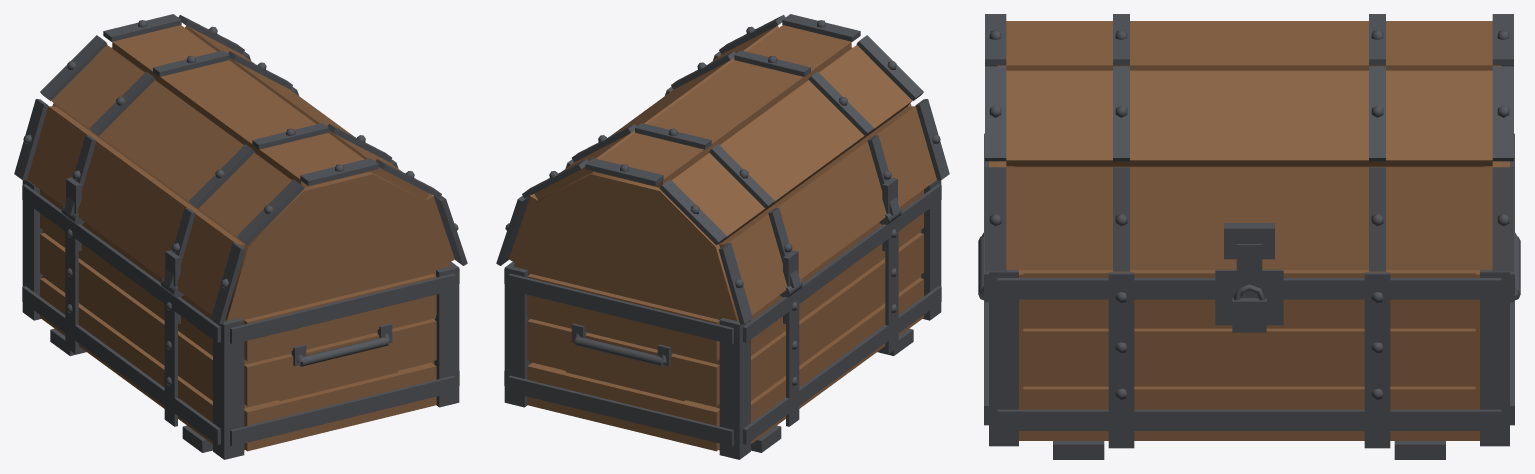
Rendered from chest.glb.
3 views of the same model, side by side, from view 1: azimuth 30°, elevation 25°; view 2: azimuth 150°, elevation 25°; view 3: azimuth 270°, elevation 25° (orthographic). The views are drawn at different scales.
Visible parts, largest first — view 1: Mesh_LidCapR, Mesh_LidPlank_3, Mesh_LidPlank_4, Mesh_LidPlank_2, Mesh_PlankR_1, Mesh_PlankB_1, Mesh_PlankR_0, Mesh_PlankR_2, Mesh_TrimR_0, Mesh_TrimR_1, Mesh_PlankB_0, Mesh_PostBR (+29 smaller); view 2: Mesh_LidCapL, Mesh_LidPlank_3, Mesh_LidPlank_4, Mesh_LidPlank_2, Mesh_PlankL_1, Mesh_PlankB_1, Mesh_PlankL_0, Mesh_PlankL_2, Mesh_TrimL_0, Mesh_TrimL_1, Mesh_PlankB_0, Mesh_TrimB_0 (+29 smaller); view 3: Mesh_LidPlank_0, Mesh_LidPlank_1, Mesh_LidPlank_2, Mesh_PlankF_1, Mesh_PlankF_0, Mesh_PlankF_2, Mesh_TrimF_0, Mesh_TrimF_1, Mesh_BaseCore, Mesh_PostFL, Mesh_PostFR, Mesh_VertBandFL (+21 smaller).
Part boxes in pixels (x1=…): Mesh_LidCapR: x1=225, y1=172, x2=450, y2=400; Mesh_LidPlank_3: x1=51, y1=45, x2=291, y2=244; Mesh_LidPlank_4: x1=27, y1=106, x2=244, y2=314; Mesh_LidPlank_2: x1=112, y1=25, x2=369, y2=187; Mesh_PlankR_1: x1=244, y1=319, x2=436, y2=406; Mesh_PlankB_1: x1=40, y1=233, x2=212, y2=398; Mesh_PlankR_0: x1=244, y1=362, x2=436, y2=451; Mesh_PlankR_2: x1=244, y1=274, x2=436, y2=361; Mesh_TrimR_0: x1=230, y1=375, x2=455, y2=446; Mesh_TrimR_1: x1=230, y1=273, x2=455, y2=344; Mesh_PlankB_0: x1=40, y1=278, x2=212, y2=443; Mesh_PostBR: x1=213, y1=318, x2=244, y2=459; Mesh_LidCapL: x1=513, y1=172, x2=738, y2=400; Mesh_LidPlank_3: x1=672, y1=45, x2=912, y2=244; Mesh_LidPlank_4: x1=719, y1=106, x2=936, y2=314; Mesh_LidPlank_2: x1=594, y1=25, x2=851, y2=187; Mesh_PlankL_1: x1=527, y1=319, x2=719, y2=406; Mesh_PlankB_1: x1=751, y1=233, x2=923, y2=398; Mesh_PlankL_0: x1=527, y1=362, x2=719, y2=451; Mesh_PlankL_2: x1=527, y1=274, x2=719, y2=361; Mesh_TrimL_0: x1=508, y1=375, x2=733, y2=446; Mesh_TrimL_1: x1=508, y1=273, x2=733, y2=344; Mesh_PlankB_0: x1=751, y1=278, x2=923, y2=443; Mesh_TrimB_0: x1=743, y1=286, x2=941, y2=444; Mesh_LidPlank_0: x1=1006, y1=166, x2=1492, y2=269; Mesh_LidPlank_1: x1=1006, y1=70, x2=1492, y2=166; Mesh_LidPlank_2: x1=1006, y1=22, x2=1492, y2=70; Mesh_PlankF_1: x1=1023, y1=328, x2=1475, y2=381; Mesh_PlankF_0: x1=1023, y1=386, x2=1475, y2=439; Mesh_PlankF_2: x1=1023, y1=270, x2=1475, y2=323; Mesh_TrimF_0: x1=997, y1=409, x2=1501, y2=430; Mesh_TrimF_1: x1=997, y1=278, x2=1501, y2=299; Mesh_BaseCore: x1=1019, y1=270, x2=1479, y2=440; Mesh_PostFL: x1=1480, y1=270, x2=1509, y2=446; Mesh_PostFR: x1=989, y1=270, x2=1018, y2=446; Mesh_VertBandFL: x1=1364, y1=272, x2=1390, y2=448.
Bounding box in the file's own units: 0.879 × 0.924 × 1.27.
